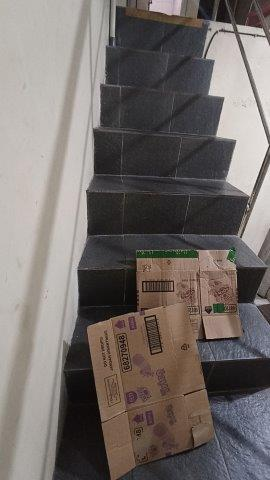kardus: (88, 305, 211, 479), (137, 250, 241, 338)
